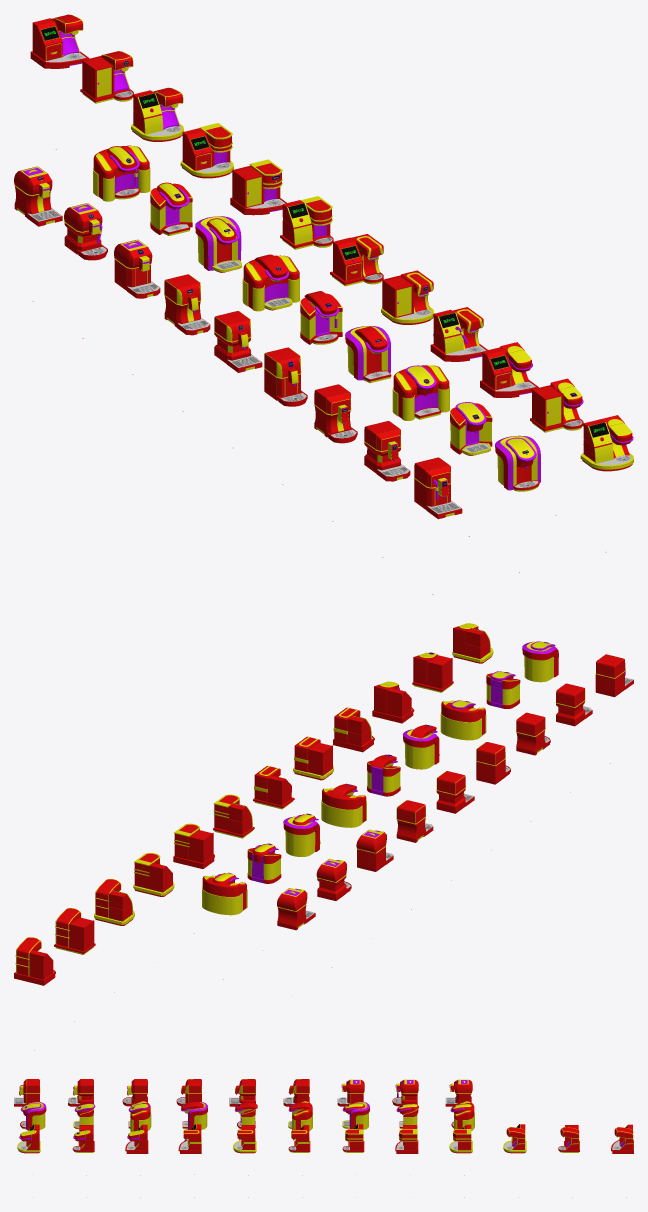
The model's file is coffee_machines_grp.fbx.
3 views of the same model, one above another, from view 1: azimuth 30°, elevation 25°; view 2: azimuth 150°, elevation 25°; view 3: azimuth 270°, elevation 25° (orthographic). The views are drawn at different scales.
Parts seen in each view (by area): view 1: coffee_machine_15, coffee_machine_12, coffee_machine_18, coffee_machine_26, coffee_machine_27, coffee_machine_30, coffee_machine_22, coffee_machine_21, coffee_machine_19, coffee_machine_28, coffee_machine_23, coffee_machine_25 (+18 smaller); view 2: coffee_machine_15, coffee_machine_18, coffee_machine_12, coffee_machine_26, coffee_machine_29, coffee_machine_30, coffee_machine_28, coffee_machine_23, coffee_machine_13, coffee_machine_22, coffee_machine_20, coffee_machine_27 (+18 smaller); view 3: coffee_machine_13, coffee_machine_16, coffee_machine_15, coffee_machine_10, coffee_machine_12, coffee_machine_26, coffee_machine_28, coffee_machine_23, coffee_machine_18, coffee_machine_8, coffee_machine_22, coffee_machine_2 (+18 smaller).
Boxes of the visible parts, <box> form: coffee_machine_15: <box>242,254,299,311</box>; coffee_machine_12: <box>392,365,449,420</box>; coffee_machine_18: <box>93,145,150,201</box>; coffee_machine_26: <box>230,159,286,215</box>; coffee_machine_27: <box>180,123,233,178</box>; coffee_machine_30: <box>30,14,89,149</box>; coffee_machine_22: <box>430,307,487,361</box>; coffee_machine_21: <box>480,342,538,397</box>; coffee_machine_19: <box>580,415,633,552</box>; coffee_machine_28: <box>131,87,183,141</box>; coffee_machine_23: <box>381,270,434,324</box>; coffee_machine_25: <box>280,196,333,249</box>; coffee_machine_15: <box>321,783,366,827</box>; coffee_machine_18: <box>202,872,247,979</box>; coffee_machine_12: <box>440,700,486,740</box>; coffee_machine_26: <box>173,823,214,933</box>; coffee_machine_29: <box>54,908,95,1021</box>; coffee_machine_30: <box>14,937,55,1050</box>; coffee_machine_28: <box>94,879,134,992</box>; coffee_machine_23: <box>293,736,333,780</box>; coffee_machine_13: <box>402,724,439,769</box>; coffee_machine_22: <box>333,707,374,752</box>; coffee_machine_20: <box>412,652,453,692</box>; coffee_machine_27: <box>133,853,174,896</box>; coffee_machine_13: <box>181,1102,207,1174</box>; coffee_machine_16: <box>342,1102,369,1129</box>; coffee_machine_15: <box>288,1101,312,1175</box>; coffee_machine_10: <box>20,1102,46,1130</box>; coffee_machine_12: <box>128,1101,151,1175</box>; coffee_machine_26: <box>395,1125,418,1153</box>; coffee_machine_28: <box>503,1124,526,1197</box>; coffee_machine_23: <box>233,1125,256,1197</box>; coffee_machine_18: <box>450,1101,474,1175</box>; coffee_machine_8: <box>392,1079,418,1106</box>; coffee_machine_22: <box>178,1124,201,1197</box>; coffee_machine_2: <box>68,1079,93,1106</box>.
Size of the model in its own units: 237 by 146 by 1149.
7 materials, 2 textured.
